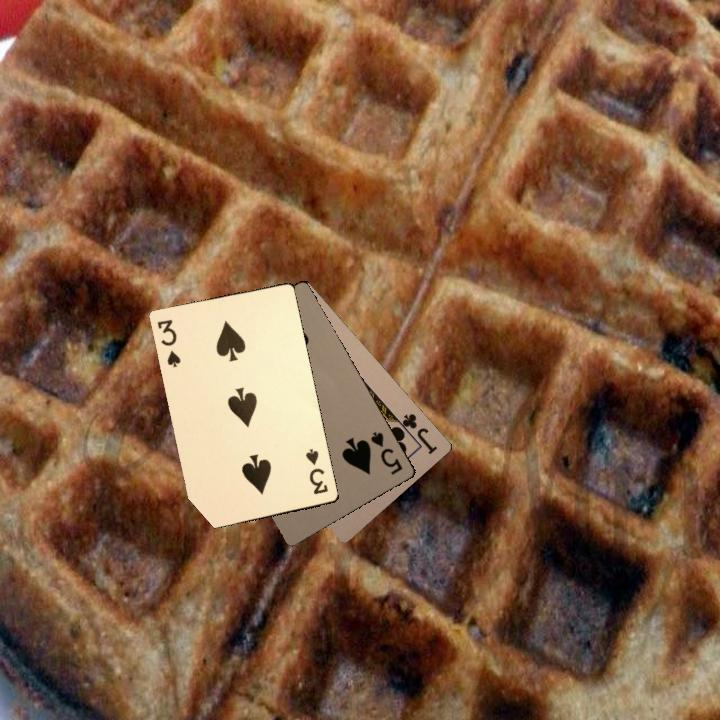3s: (153, 315, 183, 369), (302, 444, 330, 497)
5s: (366, 427, 405, 477)
Jc: (392, 409, 440, 457)
